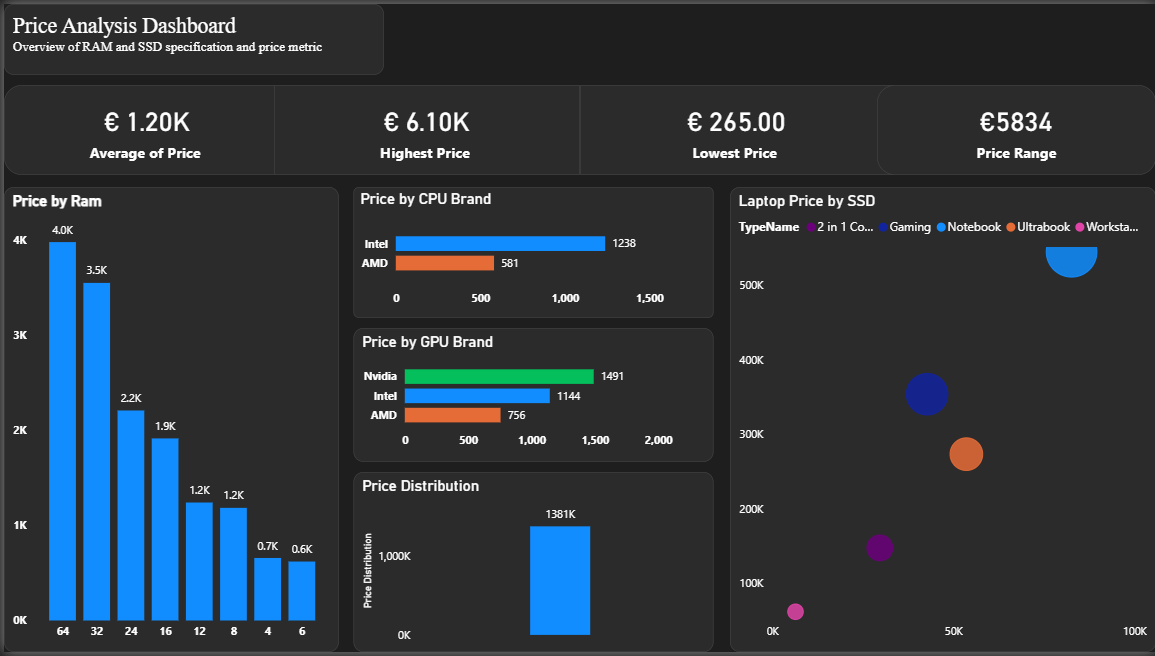

The dashboard page shown, as its layout file describes it:
{"tool":"powerbi","page":{"name":"Pricing Analysis","canvas":[1280,720],"ordinal":1},"visuals":[{"type":"card","fields":{"Values":["Avg(Table1.Price_euros)"]},"box":[0,90,318.3,100],"z":0},{"type":"card","fields":{"Values":["Max(Table1.Price_euros)"]},"box":[300,90,340,100],"z":1000},{"type":"card","fields":{"Values":["Min(Table1.Price_euros)"]},"box":[640,90,348.3,100],"z":2000},{"type":"card","fields":{"Values":["Table1.Highest Price"]},"box":[970,90,310,100],"z":3000},{"type":"columnChart","title":"Price by Ram","fields":{"Y":["Table1.Average Price"],"Category":["Table1.Ram"]},"box":[0,203.3,371.7,516.7],"z":4000},{"type":"clusteredBarChart","title":"Price by CPU Brand","fields":{"Category":["Table1.Cpu Brand"],"Y":["Table1.Average Price"]},"box":[388.3,203.3,400,145],"z":5000},{"type":"clusteredBarChart","title":"Price by GPU Brand","fields":{"Category":["Table1.Gpu Brand"],"Y":["Table1.Average Price"]},"box":[388.3,360,400,148.3],"z":6000},{"type":"scatterChart","title":"Laptop Price by SSD","fields":{"X":["Sum(Table1.SSD)"],"Y":["Sum(Table1.Price_euros)"],"Size":["Sum(Table1.Ram)"],"Series":["Table1.TypeName"]},"box":[806.7,203.3,473.3,516.7],"z":7000},{"type":"clusteredColumnChart","fields":{"Y":["Sum(Table1.Price_euros)"]},"box":[388.3,520,400,200],"z":8000},{"type":"textbox","box":[0,0,421.7,78.3],"z":9000}]}

Visuals, with their boxes in screenshot pixels (x1, y1, x2, y2), scaled from the page's 1280x720 canvas onto the 1155x656 screenshot:
card - Avg(Table1.Price_euros): bbox(0, 82, 287, 173)
card - Max(Table1.Price_euros): bbox(271, 82, 578, 173)
card - Min(Table1.Price_euros): bbox(578, 82, 892, 173)
card - Table1.Highest Price: bbox(875, 82, 1154, 173)
"Price by Ram" columnChart: bbox(0, 185, 335, 655)
"Price by CPU Brand" clusteredBarChart: bbox(350, 185, 711, 317)
"Price by GPU Brand" clusteredBarChart: bbox(350, 328, 711, 463)
"Laptop Price by SSD" scatterChart: bbox(728, 185, 1154, 655)
clusteredColumnChart - Sum(Table1.Price_euros): bbox(350, 474, 711, 655)
textbox: bbox(0, 0, 381, 71)
